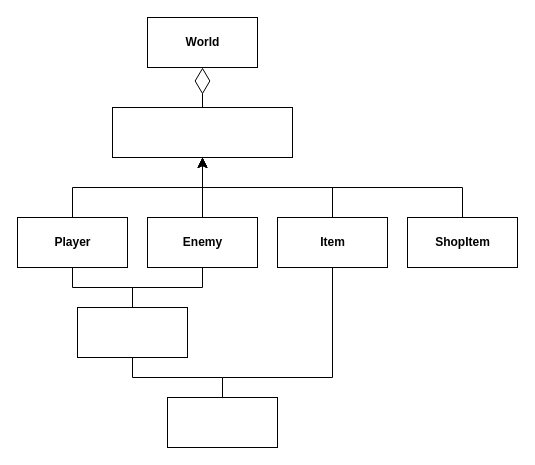
Some shapes in this 535 by 465 pixel diagram are drawn without their labels. The shapes that lost their labels are listed below. From the top down, each one's centre as x and y in pixels, then its label:
At point (202, 132): "Entity".
At point (132, 332): "Attack".
At point (222, 422): "Effect".
